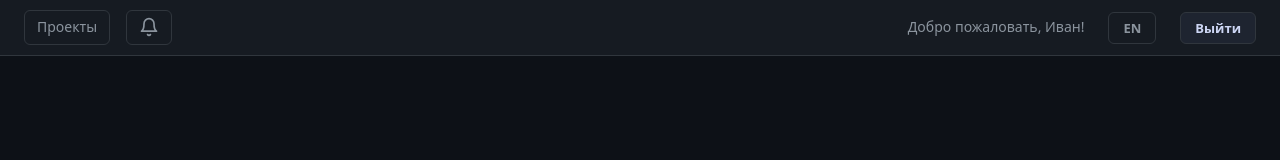
it: Header › should toggle language when EN/RU button clicked
Click the button "EN" at {"x": 1132, "y": 28}, box x1=1108 y1=12 x2=1156 y2=44
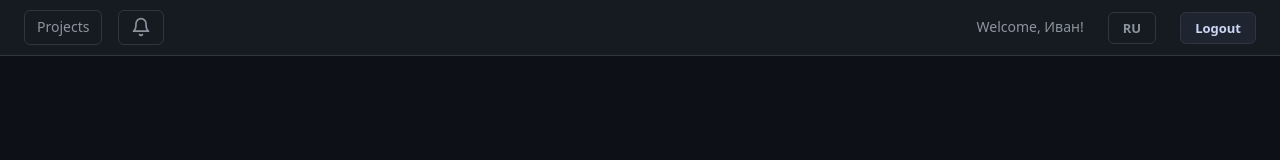
Expected: the button "RU" is shown, x1=1108 y1=12 x2=1156 y2=44
